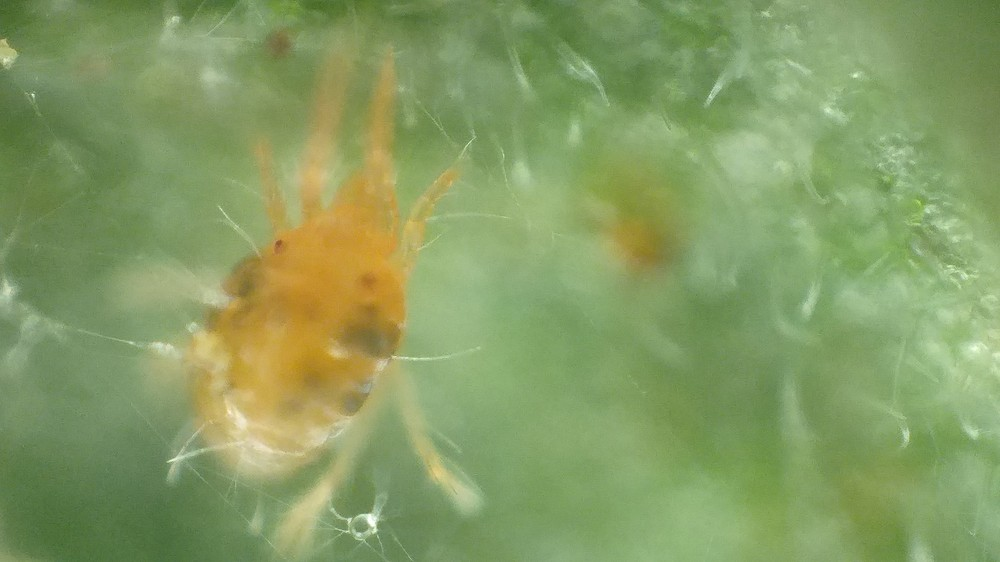Aracnido Rojo: (153, 68, 532, 557)
